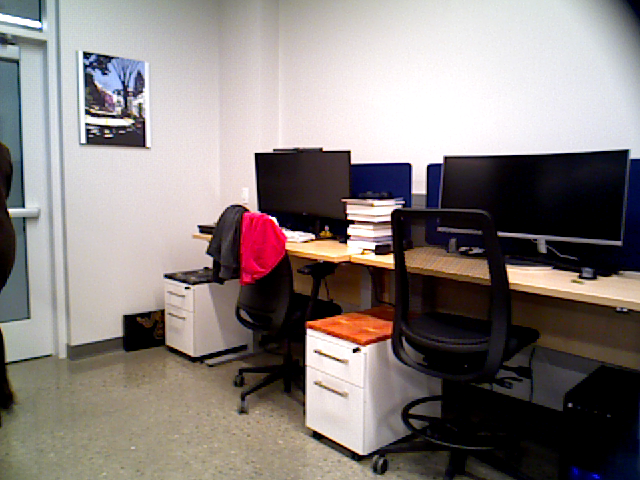painting3: (76, 51, 153, 149)
